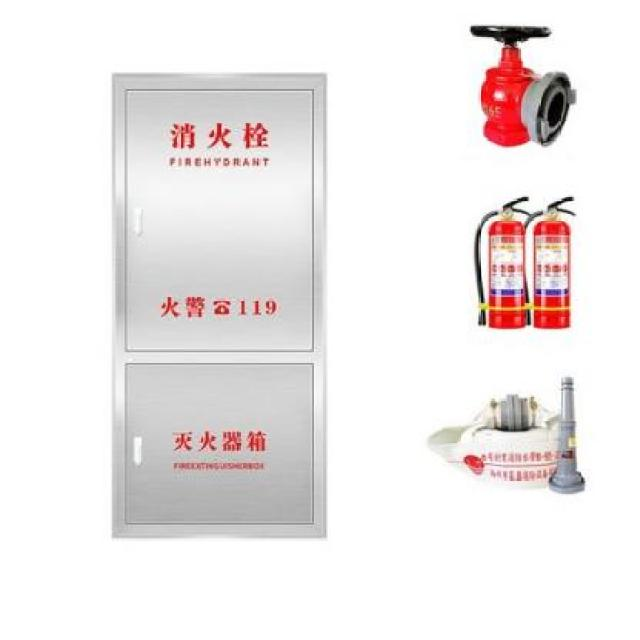firehydrant: (106, 70, 330, 546)
